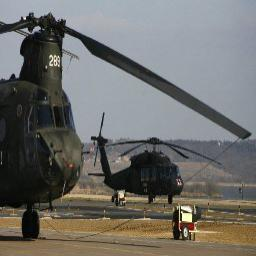helicopter: (2, 12, 252, 239), (91, 113, 224, 208)
